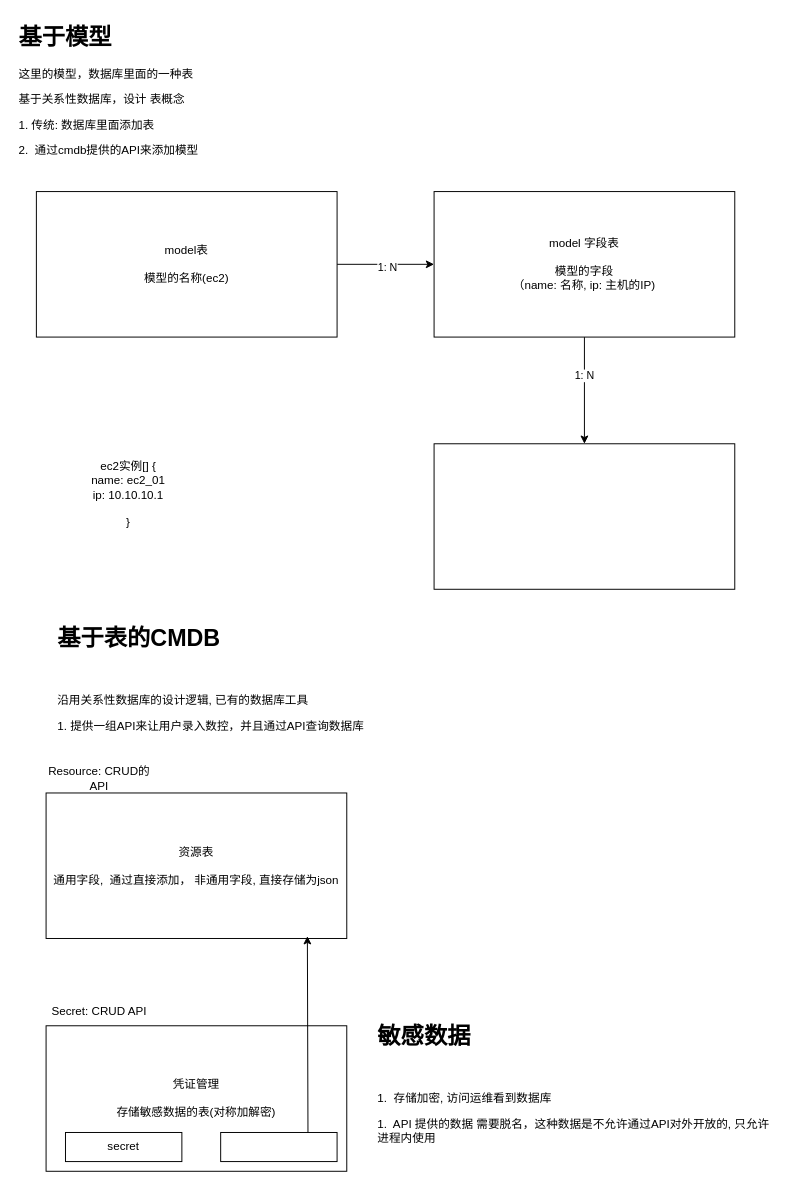
This 790x1190 diagram has some shape labels left out. The shapes that lost their labels are listed below. From the top down, each one's centre as x and y in pixels, then its label:
At point (584, 516): "实例表: 核心 记录 模型字段对应的数据 name字段编号(1): ec2_01 ip的字段编号(2): 10.10.10.1".
At point (278, 1147): "sync".
